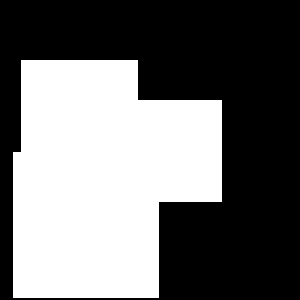circle: (13, 152, 159, 298), (21, 60, 138, 177), (120, 100, 222, 202)
